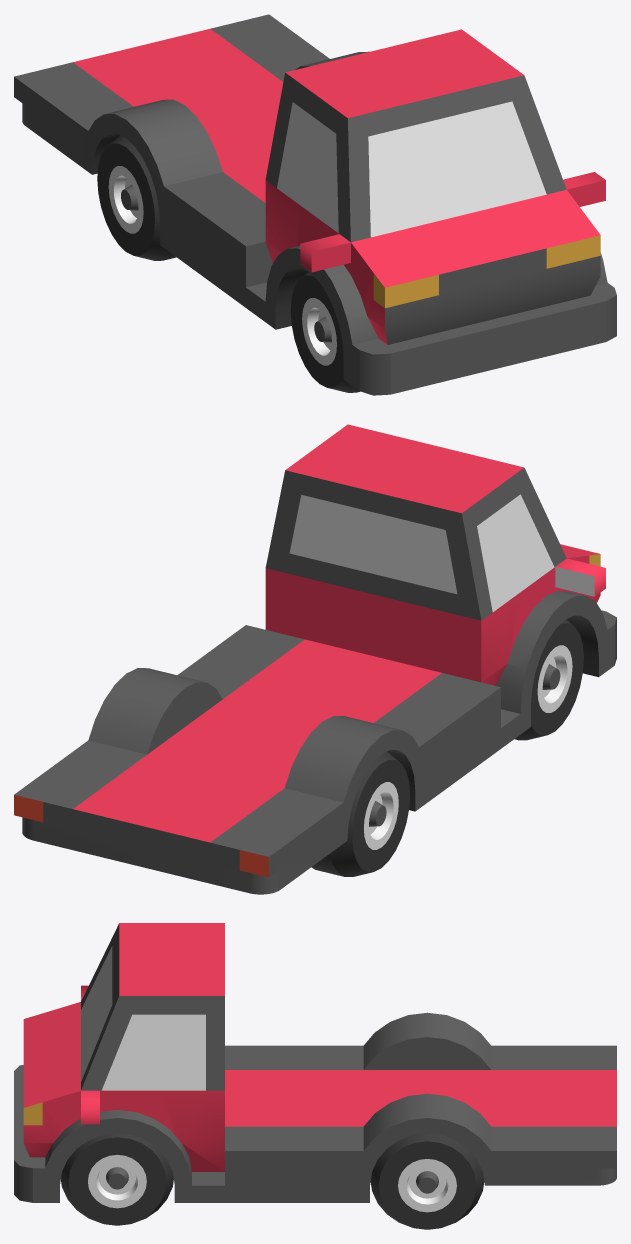
Rendered from deliveryFlat.fbx.
3 renders of one model, top to bottom at view 1: azimuth 30°, elevation 25°; view 2: azimuth 150°, elevation 25°; view 3: azimuth 270°, elevation 25°, orthographic. The views are drawn at different scales.
Parts seen in each view (by area): view 1: body, wheel_backRight, wheel_frontRight; view 2: body, wheel_backRight, wheel_frontRight; view 3: body, wheel_backLeft, wheel_frontLeft.
Part boxes in pixels (x1,y1,x2,y2): body: (14, 14, 616, 395); wheel_backRight: (97, 135, 176, 260); wheel_frontRight: (290, 272, 360, 392); body: (14, 424, 616, 894); wheel_backRight: (311, 751, 410, 876); wheel_frontRight: (514, 619, 583, 740); body: (14, 923, 616, 1202); wheel_backLeft: (370, 1133, 484, 1229); wheel_frontLeft: (61, 1133, 173, 1225).
Bounding box in the file's own units: 15 × 13 × 31.5.
